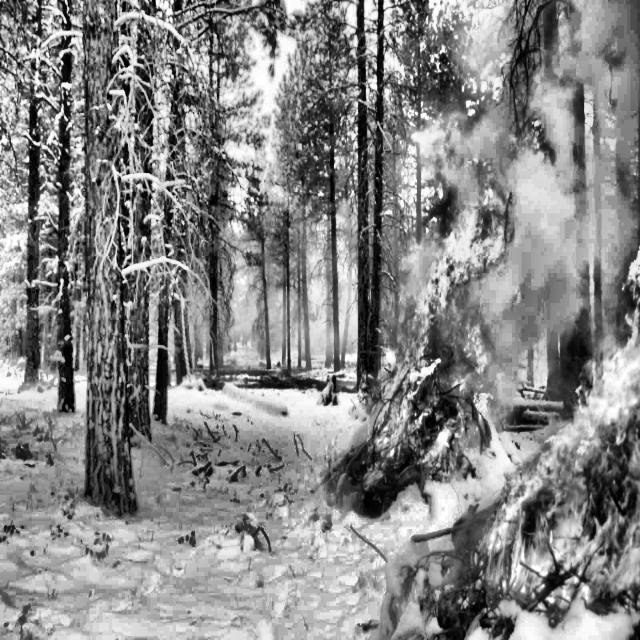fire: (468, 399, 640, 616), (546, 276, 640, 640), (380, 232, 481, 528), (274, 348, 298, 418), (181, 355, 243, 378)
